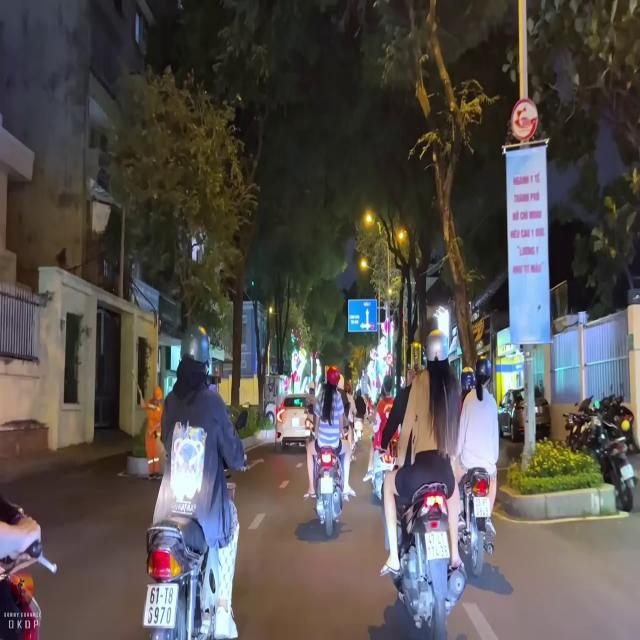bien_trang: (141, 584, 177, 630), (423, 532, 453, 564), (475, 497, 491, 519)
